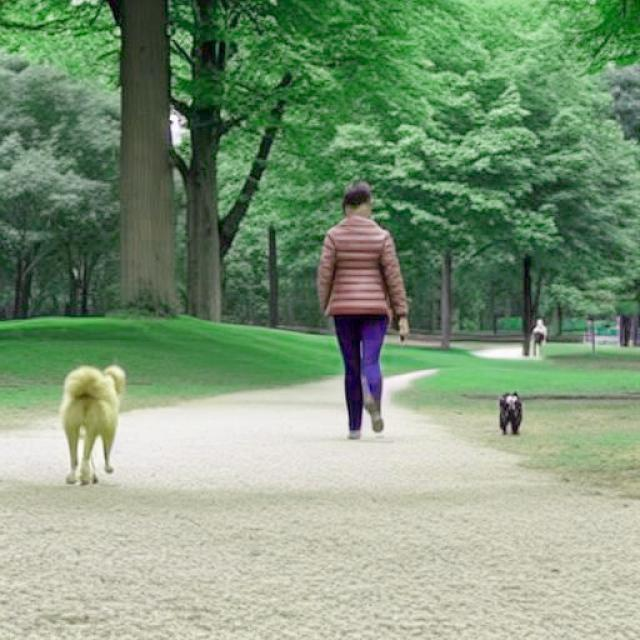Unleashed_Dog: (61, 314, 360, 484), (364, 332, 524, 437)
